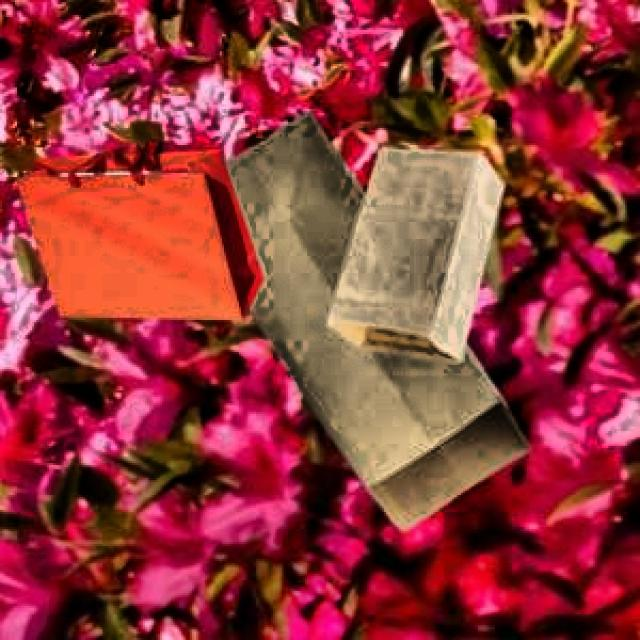Paper-bag: (183, 112, 536, 544), (27, 135, 275, 339), (321, 128, 508, 383)
